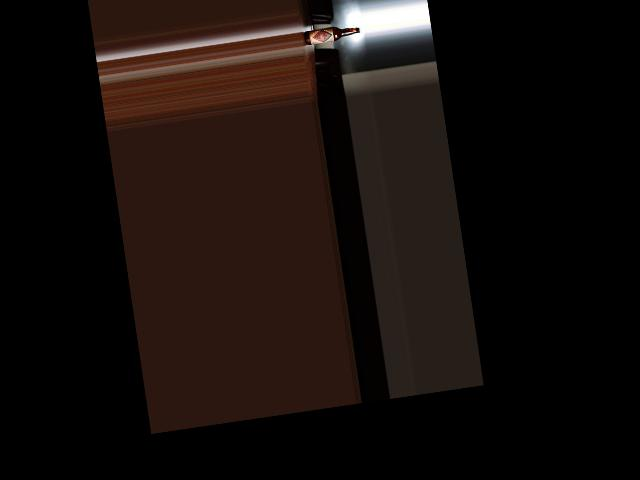beer: (303, 23, 360, 44)
